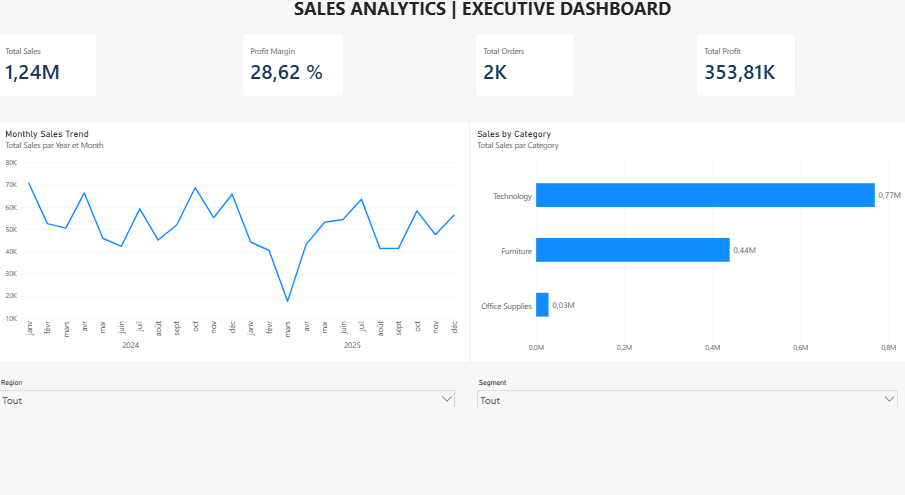

The dashboard page shown, as its layout file describes it:
{"tool":"powerbi","page":{"name":"Executive Overview ","canvas":[1920,1080],"ordinal":0},"visuals":[{"type":"cardVisual","fields":{"Data":["Sales.Total Sales"]},"box":[0,78,208,132],"z":0},{"type":"cardVisual","fields":{"Data":["Sales.Total Profit"]},"box":[1458,78,208,132],"z":1000},{"type":"cardVisual","fields":{"Data":["Sales.Total Orders"]},"box":[996,78,208,132],"z":2000},{"type":"cardVisual","fields":{"Data":["Sales.Profit Margin"]},"box":[510,78,212,132],"z":3000},{"type":"cardVisual","box":[0,198,208,150],"z":4000},{"type":"cardVisual","box":[0,413,208,150],"z":5000},{"type":"lineChart","title":"Monthly Sales Trend","fields":{"Category":["Calendar.Year","Calendar.Month"],"Y":["Sales.Total Sales"]},"box":[0,260,985,505],"z":6000},{"type":"clusteredBarChart","title":"Sales by Category","fields":{"Category":["Sales.Category"],"Y":["Sales.Total Sales"]},"box":[985,260,935,505],"z":7000},{"type":"slicer","fields":{"Values":["Sales.Region"]},"box":[0,798,960,58],"z":8000},{"type":"slicer","fields":{"Values":["Sales.Segment"]},"box":[996,798,886,58],"z":9000},{"type":"textbox","box":[550,0,924,78],"z":10000}]}

Visuals, with their boxes in screenshot pixels (x1, y1, x2, y2), scaled from the page's 1920x1080 canvas onto the 905x495 screenshot:
cardVisual - Sales.Total Sales: box=[0, 36, 98, 96]
cardVisual - Sales.Total Profit: box=[687, 36, 785, 96]
cardVisual - Sales.Total Orders: box=[469, 36, 568, 96]
cardVisual - Sales.Profit Margin: box=[240, 36, 340, 96]
cardVisual: box=[0, 91, 98, 160]
cardVisual: box=[0, 189, 98, 258]
"Monthly Sales Trend" lineChart: box=[0, 119, 464, 351]
"Sales by Category" clusteredBarChart: box=[464, 119, 904, 351]
slicer - Sales.Region: box=[0, 366, 452, 392]
slicer - Sales.Segment: box=[469, 366, 887, 392]
textbox: box=[259, 0, 695, 36]
